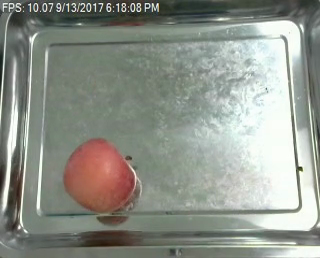Apple: (58, 138, 140, 215)
